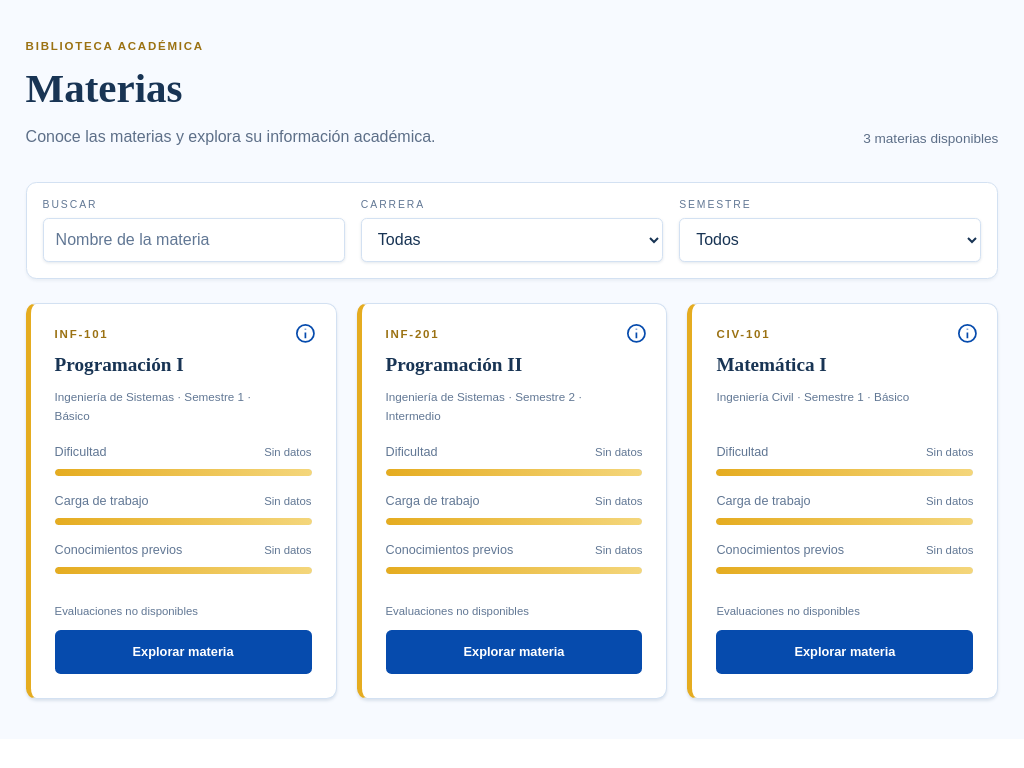
Test: HU-03: filtrar materias por carrera › informa que una carrera no tiene materias sin sustituir el resultado por datos demo
The width and height of the screenshot is (1024, 768).
Select "Ingeniería de Sistemas" in the dropdown with id "filtrar-carrera" at (512, 240), box [361,218,663,262]
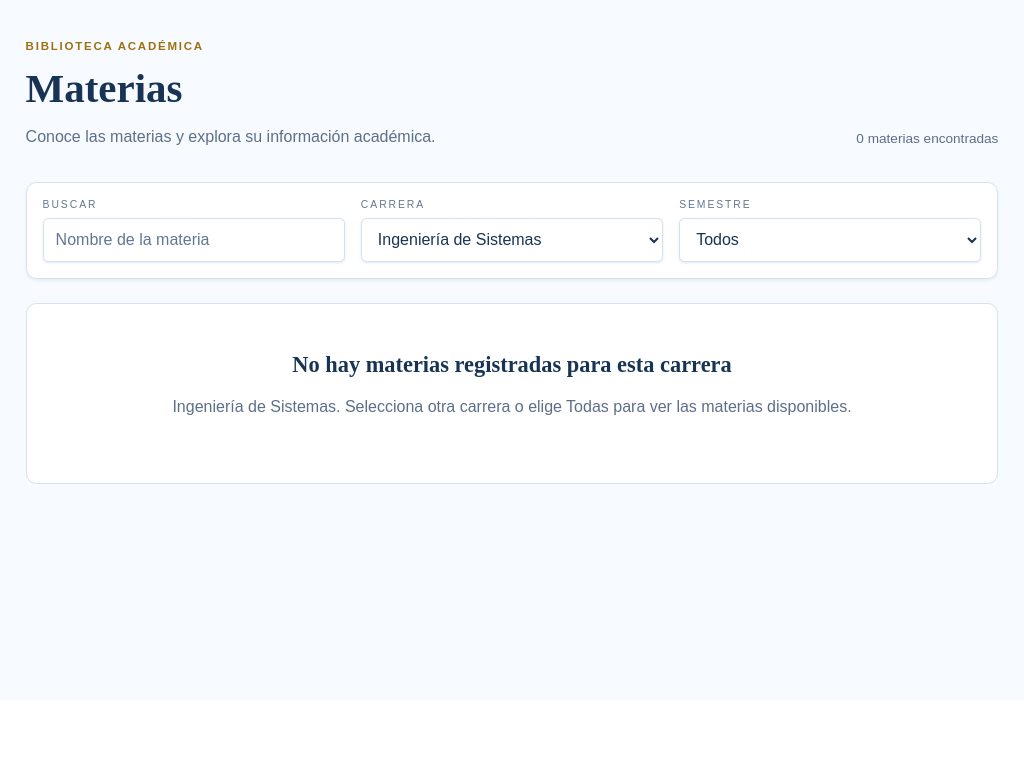
Check: the text "No hay materias registradas para esta carrera" is shown, box [292,352,732,377]
